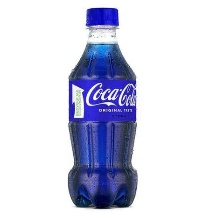bottle: (63, 4, 143, 210)
